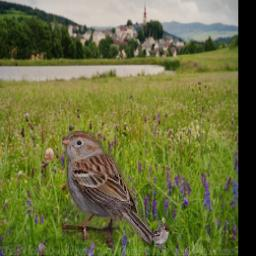Sparrow: (61, 131, 151, 245), (143, 224, 169, 252)
